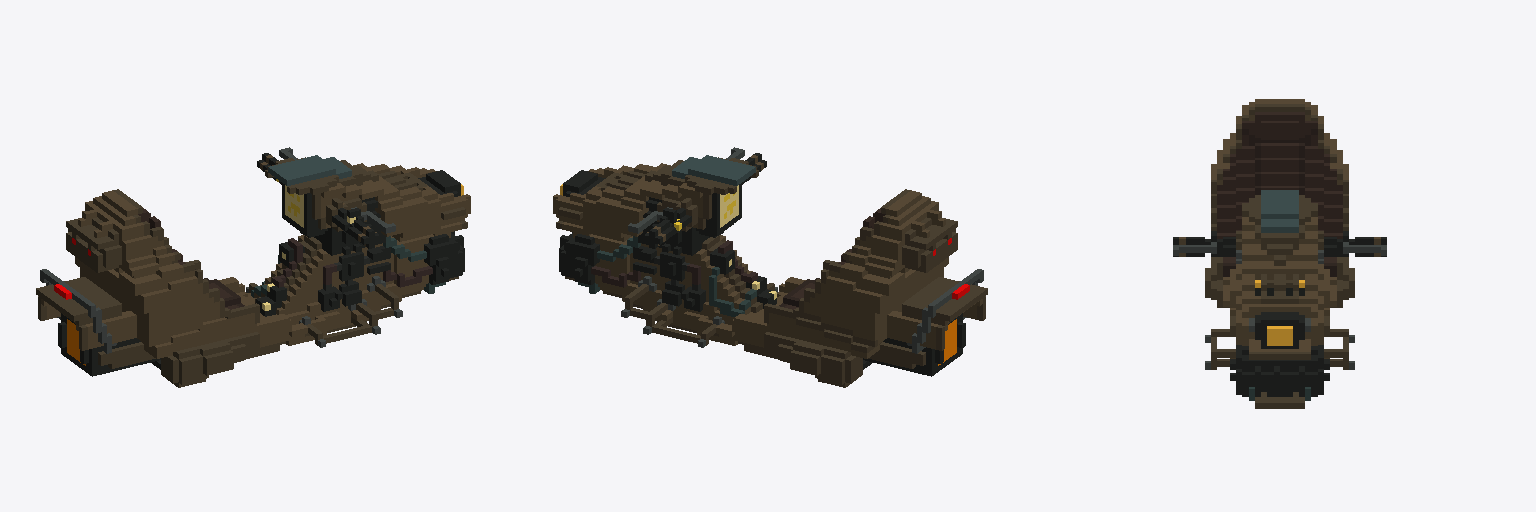
3 views of the same model, side by side, from view 1: azimuth 30°, elevation 25°; view 2: azimuth 150°, elevation 25°; view 3: azimuth 270°, elevation 25° (orthographic).
Visible parts, largest first — view 1: Scooter; view 2: Scooter; view 3: Scooter.
Part boxes in pixels (x1,y1,x2,y2): Scooter: (36,147,470,387); Scooter: (553,147,987,387); Scooter: (1173,99,1386,408).
Size of the model in its own units: 7.4 by 3.1 by 3.4.
1 materials, 1 textured.